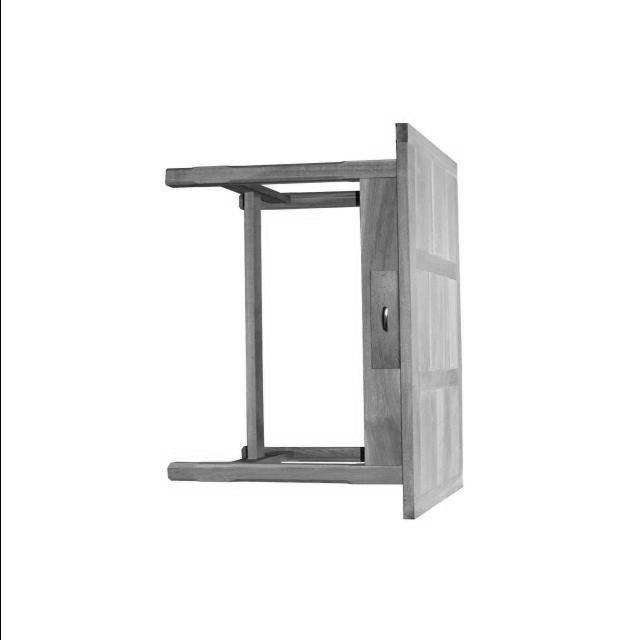table: (164, 121, 462, 520)
